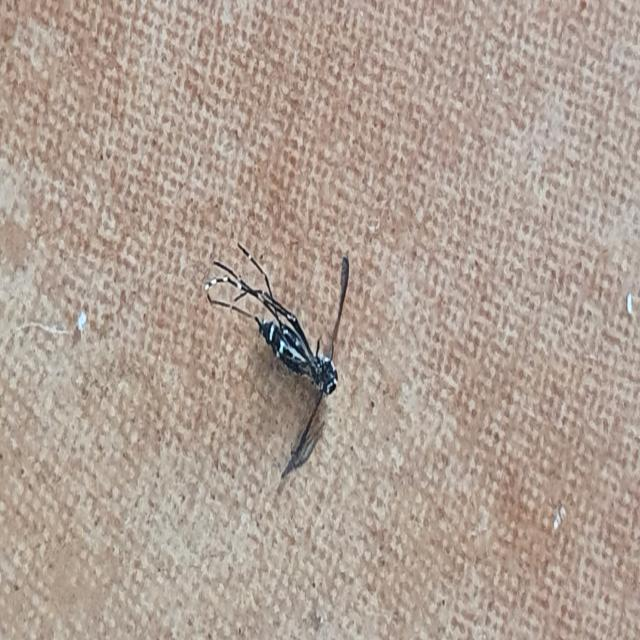albopictus: (202, 217, 353, 488)
